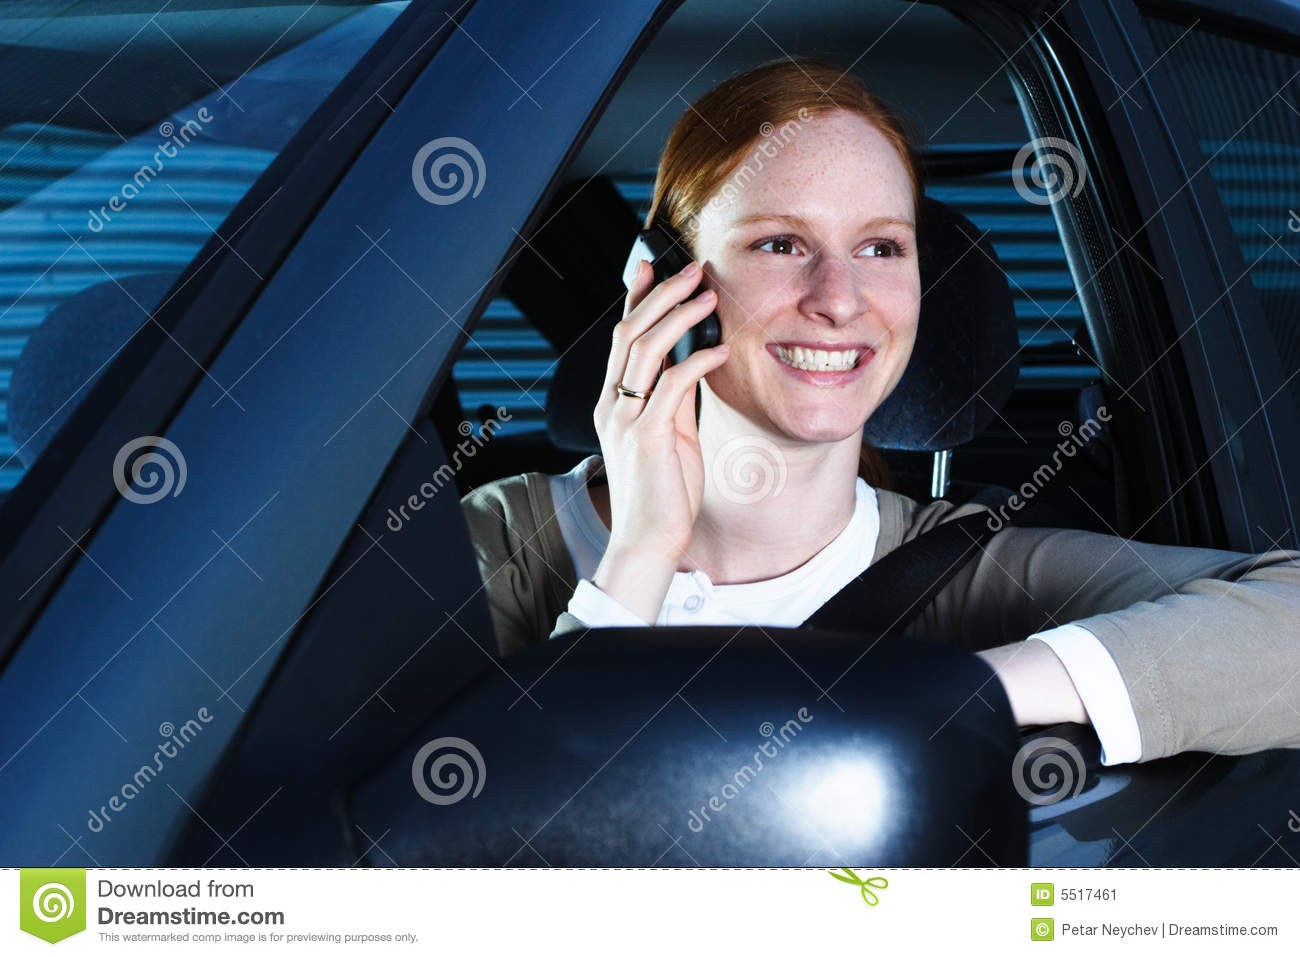phone: (623, 222, 723, 391)
talk: (590, 209, 922, 549)
